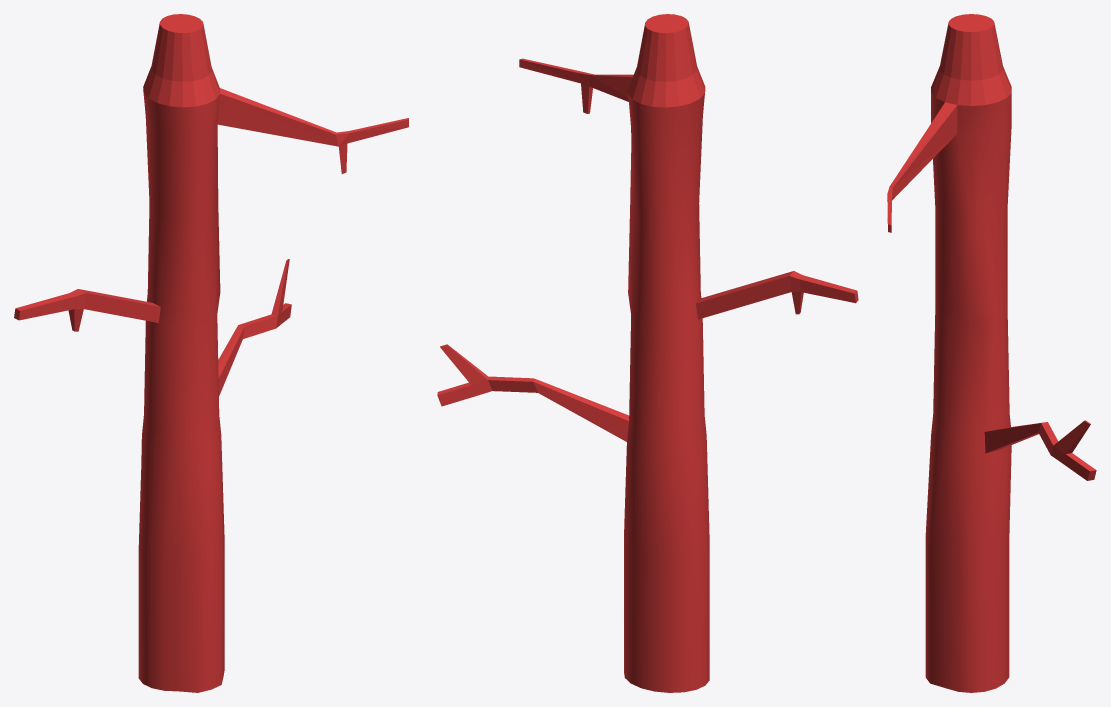
The model's file is Tree 5.fbx.
3 views of the same model, side by side, from view 1: azimuth 30°, elevation 25°; view 2: azimuth 150°, elevation 25°; view 3: azimuth 270°, elevation 25° (orthographic).
Visible parts, largest first — view 1: Tree 5; view 2: Tree 5; view 3: Tree 5.
Boxes of the visible parts, left/top/right/bottom form: Tree 5: left=14, top=14, right=408, bottom=692; Tree 5: left=437, top=14, right=858, bottom=692; Tree 5: left=887, top=14, right=1096, bottom=692.
Size of the model in its own units: 39.93 by 67.97 by 19.8.
Materials: 1 (1 with a texture image).
